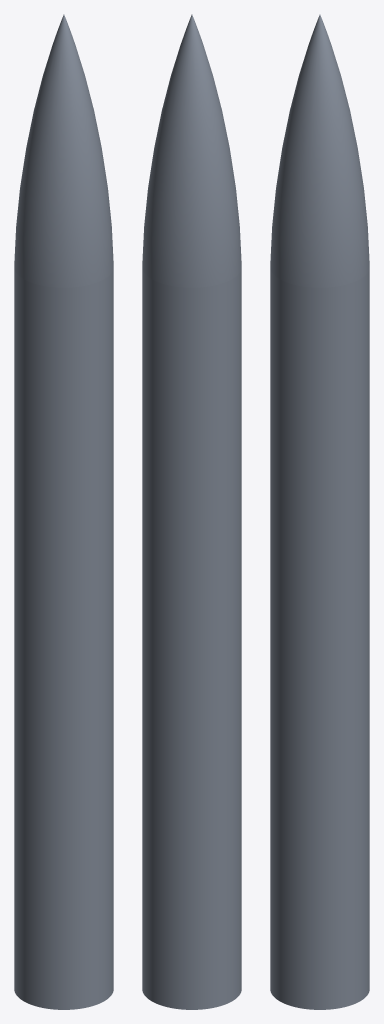
File: step-2.glb
3 renders of one model, left to right at view 1: azimuth 90°, elevation 25°; view 2: azimuth 150°, elevation 25°; view 3: azimuth 270°, elevation 25°, orthographic.
Parts seen in each view (by area): view 1: face_c10ec04866fb8ece5a7f, face_8b58d4a90c0b8a1aa91f; view 2: face_c10ec04866fb8ece5a7f, face_8b58d4a90c0b8a1aa91f; view 3: face_c10ec04866fb8ece5a7f, face_8b58d4a90c0b8a1aa91f.
Boxes of the visible parts, left/top/right/bottom form: face_c10ec04866fb8ece5a7f: left=14, top=269, right=113, bottom=1009; face_8b58d4a90c0b8a1aa91f: left=14, top=14, right=113, bottom=287; face_c10ec04866fb8ece5a7f: left=142, top=269, right=241, bottom=1009; face_8b58d4a90c0b8a1aa91f: left=142, top=14, right=241, bottom=287; face_c10ec04866fb8ece5a7f: left=270, top=269, right=369, bottom=1009; face_8b58d4a90c0b8a1aa91f: left=270, top=14, right=369, bottom=287.
Size of the model in its own units: 0.025 by 0.27 by 0.025.
